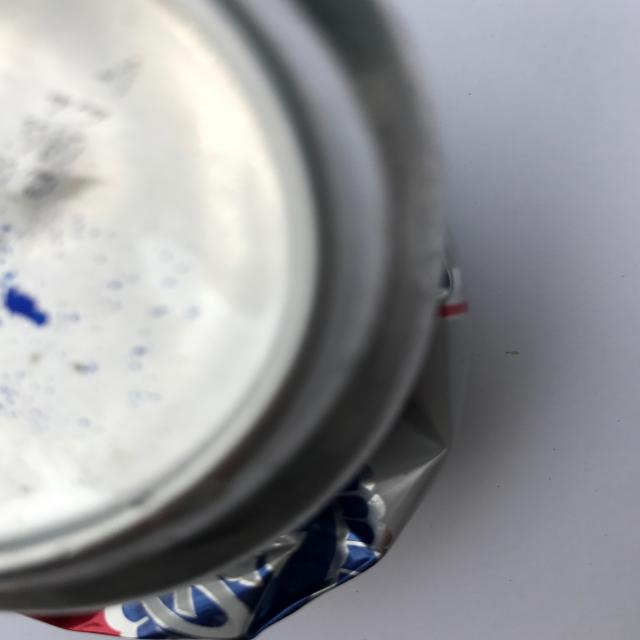metal: (0, 0, 469, 637)
